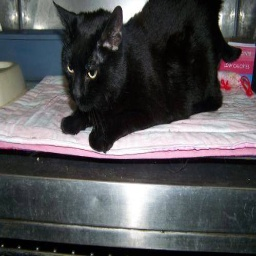cat: (53, 0, 234, 159)
